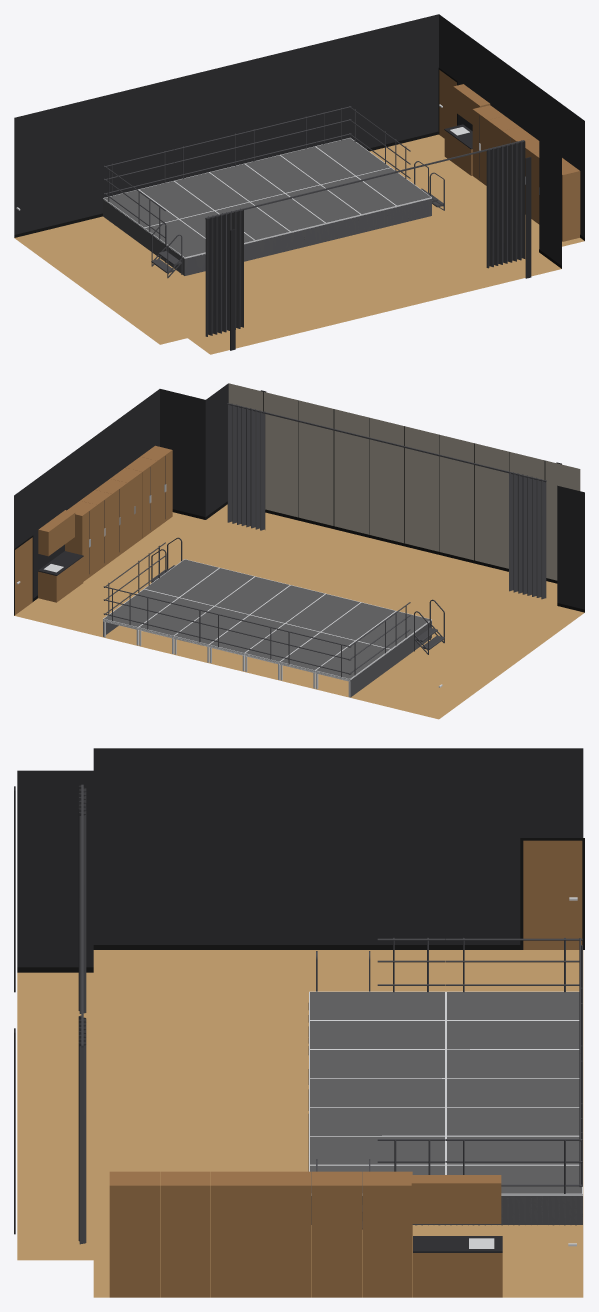
3 views of the same model, one above another, from view 1: azimuth 30°, elevation 25°; view 2: azimuth 150°, elevation 25°; view 3: azimuth 270°, elevation 25° (orthographic). The views are drawn at different scales.
Visible parts, largest first — view 1: wall, floor, stage_deck_top, stage_hardware, millwork, stage_skirt, stage_legs, trim; view 2: floor, partition, wall, stage_deck_top, stage_hardware, millwork, stage_legs, trim, stage_skirt; view 3: wall, floor, millwork, stage_deck_top, stage_hardware, trim, stage_legs, stage_skirt.
Boxes of the visible parts, x1=… form: wall: x1=14, y1=14, x2=584, y2=350; floor: x1=14, y1=134, x2=584, y2=354; stage_deck_top: x1=104, y1=138, x2=430, y2=257; stage_hardware: x1=104, y1=106, x2=525, y2=336; millwork: x1=439, y1=70, x2=580, y2=241; stage_skirt: x1=103, y1=198, x2=431, y2=275; stage_legs: x1=16, y1=104, x2=539, y2=258; trim: x1=14, y1=68, x2=584, y2=268; floor: x1=14, y1=504, x2=584, y2=719; partition: x1=228, y1=383, x2=580, y2=580; wall: x1=14, y1=383, x2=584, y2=609; stage_deck_top: x1=104, y1=559, x2=429, y2=678; stage_hardware: x1=89, y1=403, x2=546, y2=676; millwork: x1=15, y1=445, x2=172, y2=614; stage_legs: x1=16, y1=484, x2=442, y2=697; trim: x1=14, y1=392, x2=584, y2=615; stage_skirt: x1=103, y1=621, x2=431, y2=697; wall: x1=14, y1=748, x2=583, y2=1252; floor: x1=17, y1=950, x2=583, y2=1297; millwork: x1=109, y1=840, x2=582, y2=1297; stage_deck_top: x1=310, y1=992, x2=581, y2=1193; stage_hardware: x1=78, y1=784, x2=582, y2=1244; trim: x1=17, y1=838, x2=584, y2=972; stage_legs: x1=309, y1=897, x2=582, y2=1248; stage_skirt: x1=308, y1=1003, x2=582, y2=1225.
Bounding box in the file's own units: 14.66 × 3.96 × 10.17.
